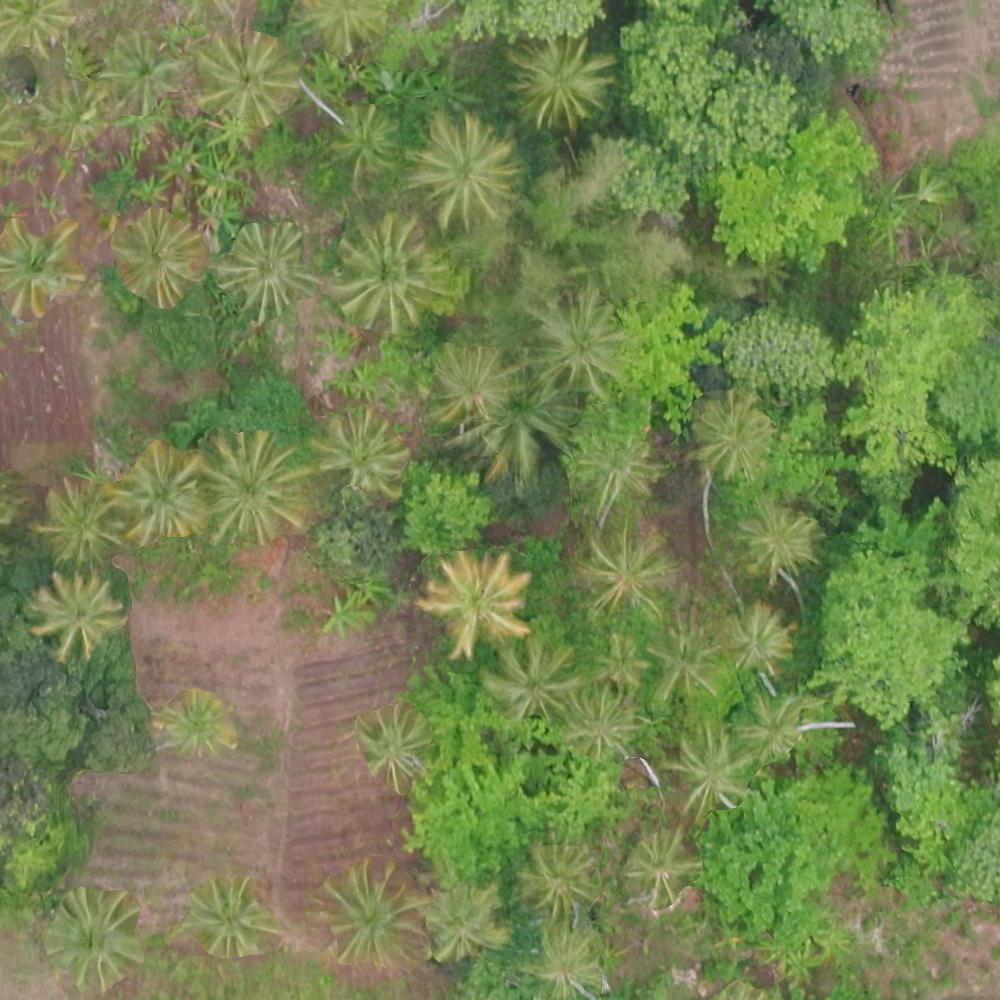Palm: (334, 221, 441, 327), (420, 552, 532, 650), (197, 432, 300, 534), (417, 116, 515, 222), (195, 31, 299, 119), (531, 295, 625, 388), (1, 215, 86, 317), (322, 874, 423, 959), (574, 529, 672, 615), (116, 446, 206, 539), (316, 410, 405, 504), (51, 894, 144, 981), (516, 45, 611, 128), (219, 224, 305, 312), (116, 214, 202, 301), (184, 877, 270, 961), (33, 574, 116, 658), (41, 478, 122, 564), (647, 621, 729, 705), (484, 643, 573, 717), (578, 432, 661, 507), (429, 345, 507, 424), (523, 841, 603, 918), (737, 499, 816, 576), (425, 884, 503, 959), (671, 730, 748, 805), (717, 600, 793, 675), (100, 34, 175, 109), (695, 399, 769, 475), (351, 710, 423, 786), (564, 684, 638, 757), (530, 926, 604, 996), (2, 1, 77, 65), (627, 829, 695, 897), (329, 101, 396, 169), (162, 692, 233, 752), (743, 696, 806, 761), (587, 632, 648, 695)
